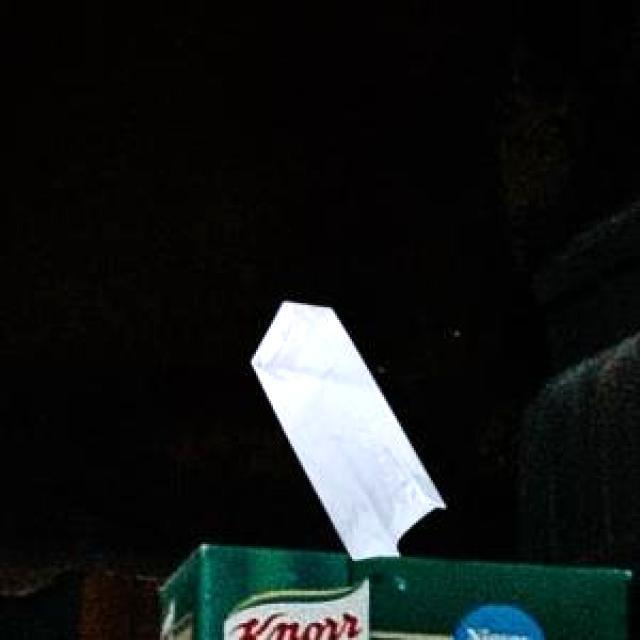Plastic_Bag: (248, 300, 442, 556)
